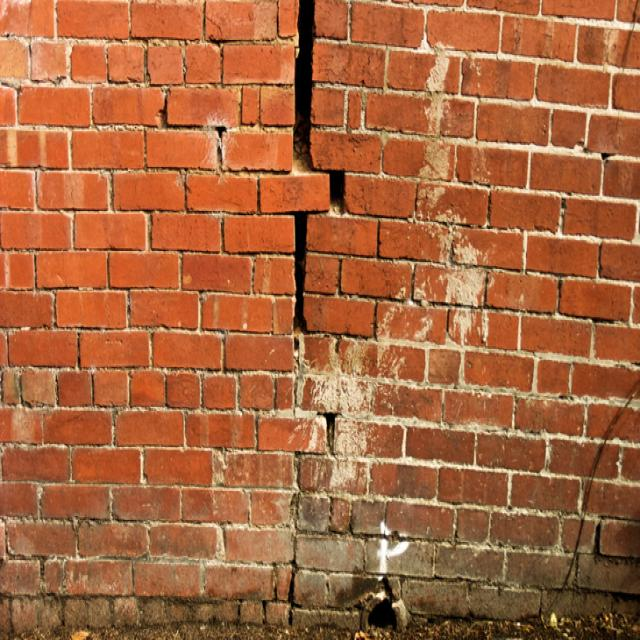Crack: (288, 0, 345, 601)
